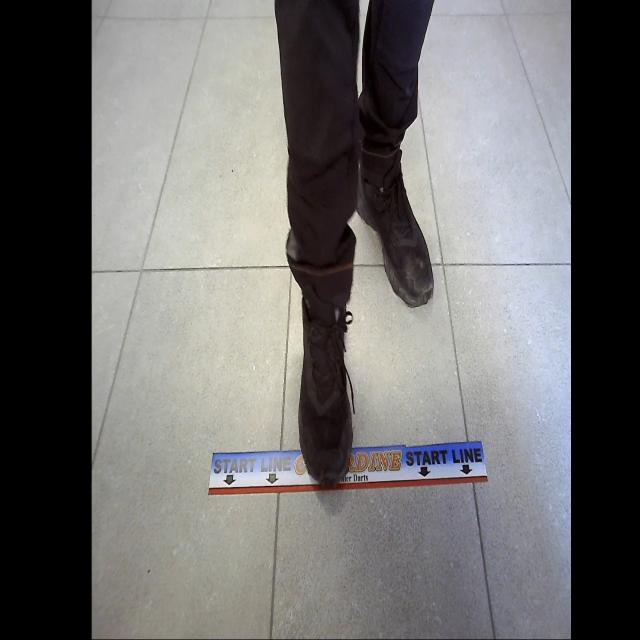foot: (356, 148, 434, 308), (294, 295, 356, 492)
